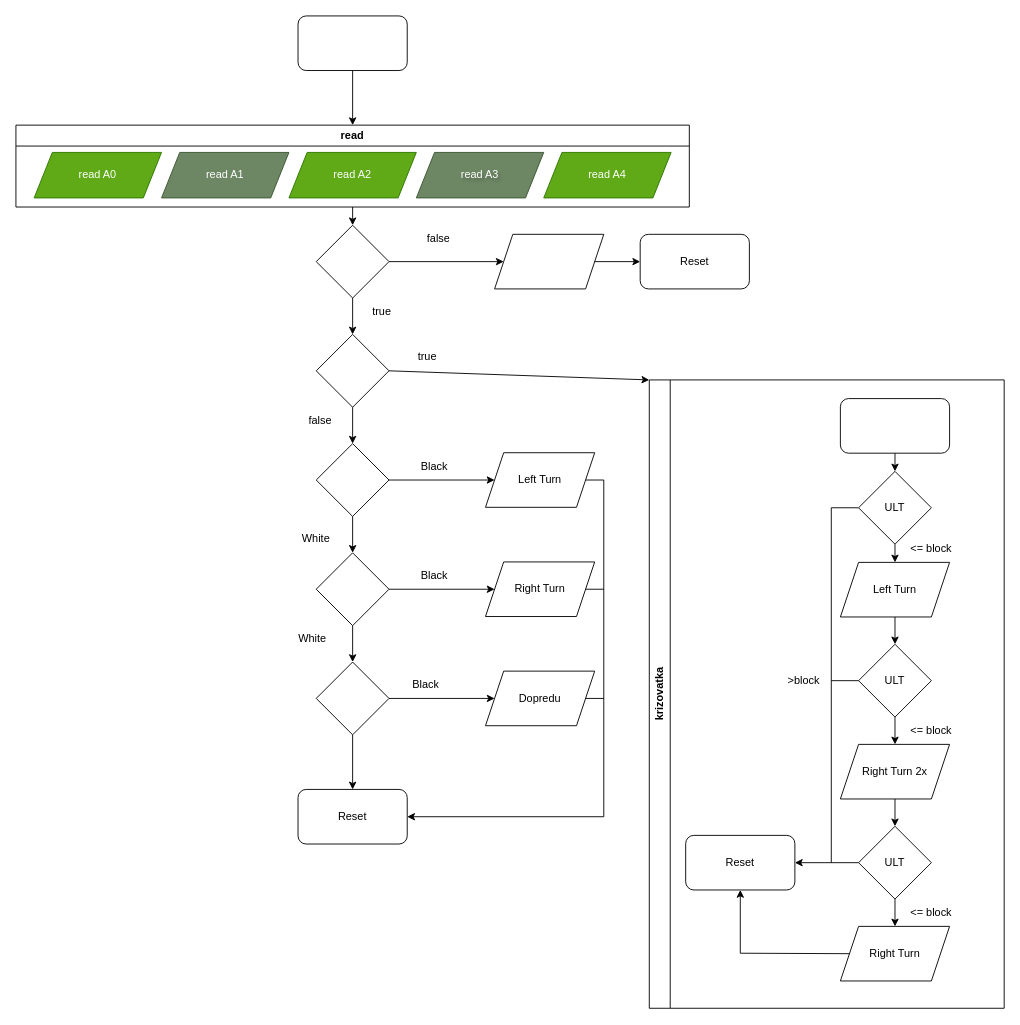
Image size: 1020x1025. Some labels were removed from this diagram. The shapes that lost their labels are listed below. From the top down, each one's centre as x and y in pixels, then its label:
At pixel 352 43: "start".
At pixel 352 261: "Button".
At pixel 549 261: "Stop".
At pixel 352 370: "TAS >= 3".
At pixel 894 425: "Enter".
At pixel 352 479: "A0".
At pixel 352 589: "A4".
At pixel 352 698: "A2".
